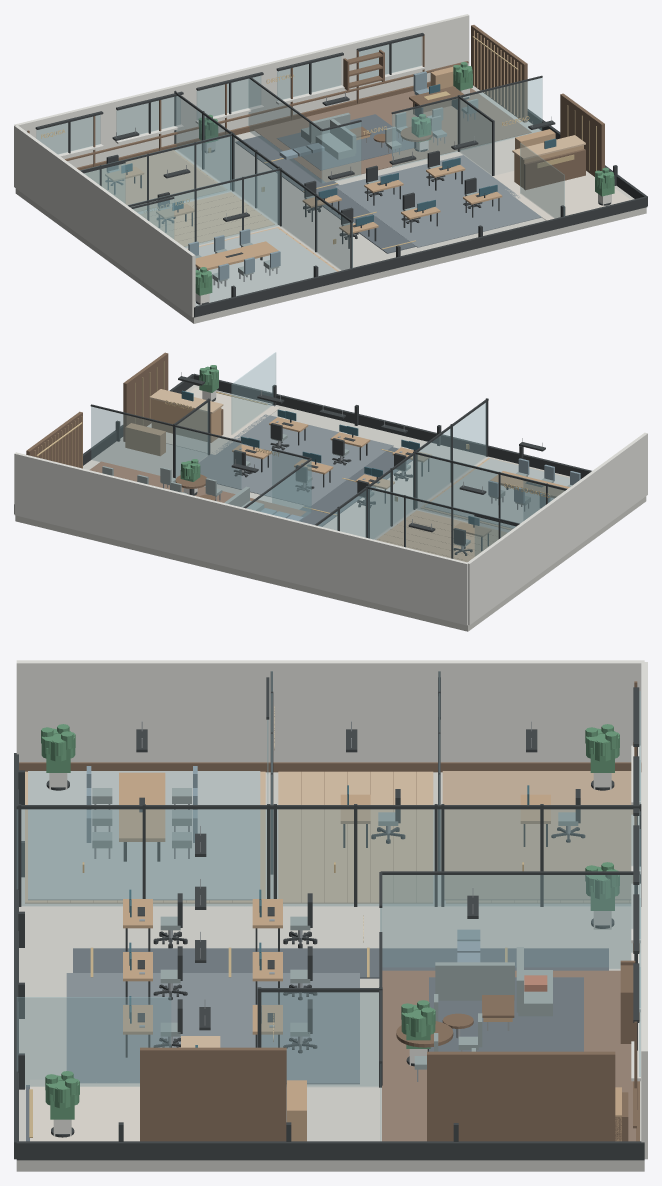
The model's file is signal-office.glb.
3 renders of one model, top to bottom at view 1: azimuth 30°, elevation 25°; view 2: azimuth 150°, elevation 25°; view 3: azimuth 270°, elevation 25°, orthographic. The views are drawn at different scales.
Visible parts, largest first — view 1: north exterior, building slab, west exterior, trading department floor, executive south glass right, executive department floor, glass room divider, glass room divider.001, south low edge, risk department floor, glass room front, executive west glass (+32 smaller); view 2: north exterior, building slab, west exterior, trading department floor, executive south glass right, glass room divider.001, glass room divider, south low edge, risk department floor, glass room front, room oak floor.001, reception department floor (+20 smaller); view 3: west exterior, building slab, glass room front, risk department floor, executive west glass, trading department floor, research department floor, room oak floor.001, director feature wall, glass room front.002, glass room front.001, reception feature wall (+29 smaller).
Part boxes in pixels (x1,y1,x2,y2): north exterior: (14,14,469,167); building slab: (15,85,646,323); west exterior: (14,125,195,317); trading department floor: (335,155,541,247); executive south glass right: (392,78,542,167); executive department floor: (254,87,531,182); glass room divider: (128,168,279,247); glass room divider.001: (81,134,231,204); south low edge: (194,196,647,317); risk department floor: (195,228,336,305); glass room front: (281,172,352,270); executive west glass: (248,79,321,183); north exterior: (14,452,467,625); building slab: (15,385,646,631); west exterior: (467,432,647,625); trading department floor: (198,414,393,506); executive south glass right: (91,406,241,493); glass room divider.001: (368,487,519,561); glass room divider: (416,452,566,523); south low edge: (193,373,591,478); risk department floor: (425,458,569,528); glass room front: (418,402,486,499); room oak floor.001: (377,510,506,561); reception department floor: (147,387,279,454); west exterior: (16,660,644,762); building slab: (16,772,644,1171); glass room front: (17,809,271,906); risk department floor: (28,771,260,900); executive west glass: (381,875,639,968); trading department floor: (66,973,359,1084); research department floor: (442,771,632,899); room oak floor.001: (278,771,433,903); director feature wall: (427,1051,615,1141); glass room front.002: (439,809,639,905); glass room front.001: (272,809,438,906); reception feature wall: (140,1047,286,1141).
Bounding box in the file's own units: 22.14 × 3.17 × 15.14.
